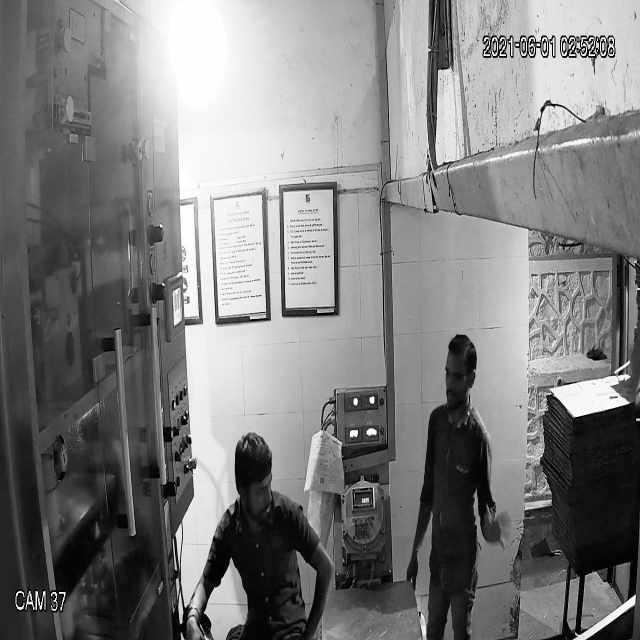Sin_gafas: (232, 465, 276, 505), (441, 362, 479, 392)
